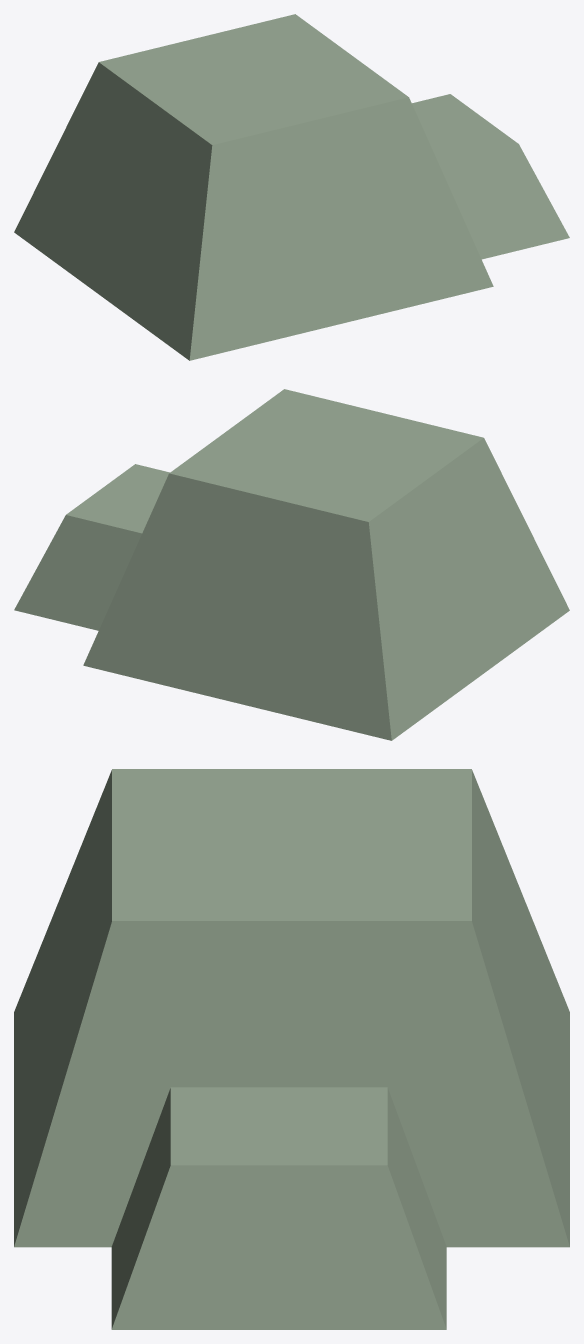
File: rock_grey_02.fbx
The picture shows the model from 3 angles, top to bottom: view 1: azimuth 30°, elevation 25°; view 2: azimuth 150°, elevation 25°; view 3: azimuth 270°, elevation 25°; orthographic projection. The views are drawn at different scales.
Visible parts, largest first — view 1: rock_grey_02; view 2: rock_grey_02; view 3: rock_grey_02.
Boxes of the visible parts, left/top/right/bottom form: rock_grey_02: left=14, top=14, right=569, bottom=360; rock_grey_02: left=14, top=389, right=569, bottom=740; rock_grey_02: left=14, top=769, right=569, bottom=1329.
Bounding box in the file's own units: 1.44 × 0.6003 × 1.06.
